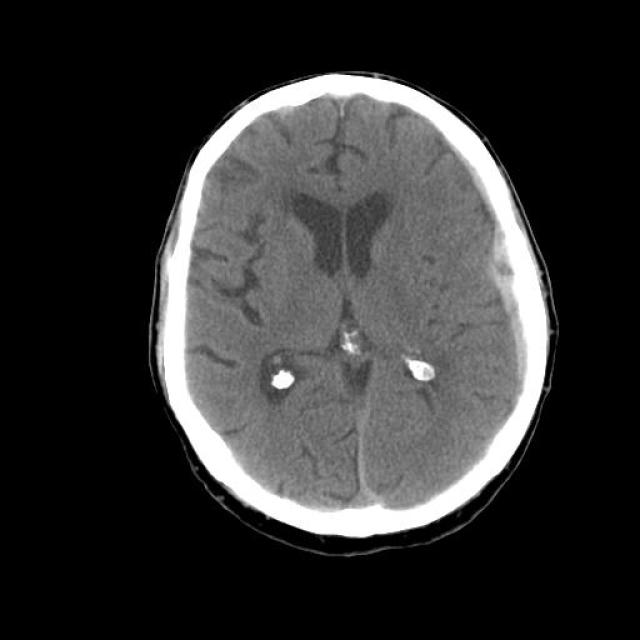Subdural: (440, 112, 566, 410)
